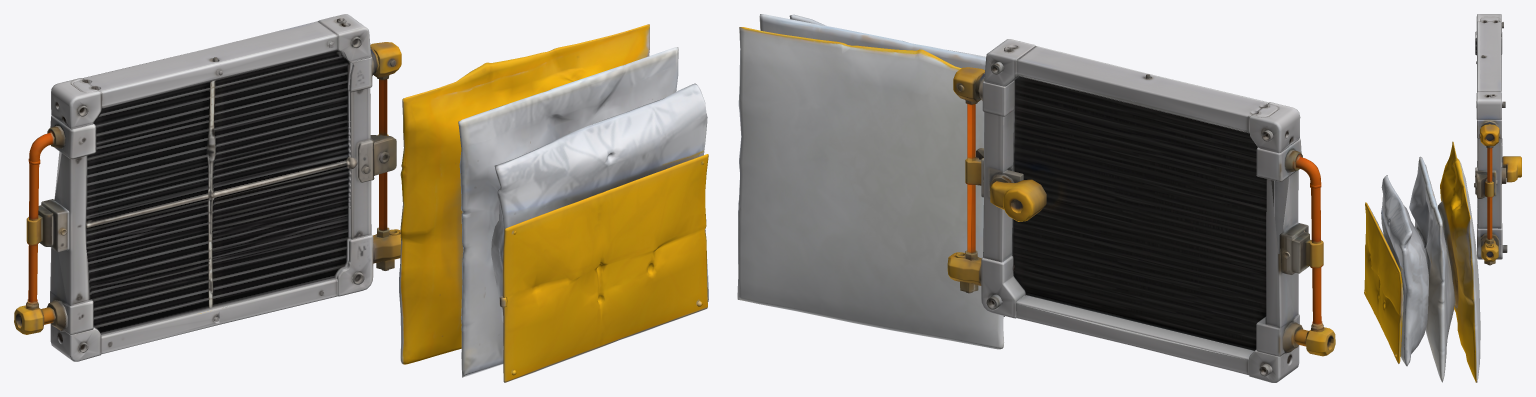
Rendered from sat2_8.fbx.
The picture shows the model from 3 angles, left to right: view 1: azimuth 30°, elevation 25°; view 2: azimuth 150°, elevation 25°; view 3: azimuth 270°, elevation 25°; orthographic projection. The views are drawn at different scales.
Visible parts, largest first — view 1: tripo_node_01b6ed4c; view 2: tripo_node_01b6ed4c; view 3: tripo_node_01b6ed4c.
Boxes of the visible parts, x1,y1,x2,y2 form: tripo_node_01b6ed4c: (14, 14, 708, 382); tripo_node_01b6ed4c: (737, 14, 1335, 382); tripo_node_01b6ed4c: (1364, 14, 1521, 382).
Size of the model in its own units: 0.9995 by 0.5161 by 0.3628.
